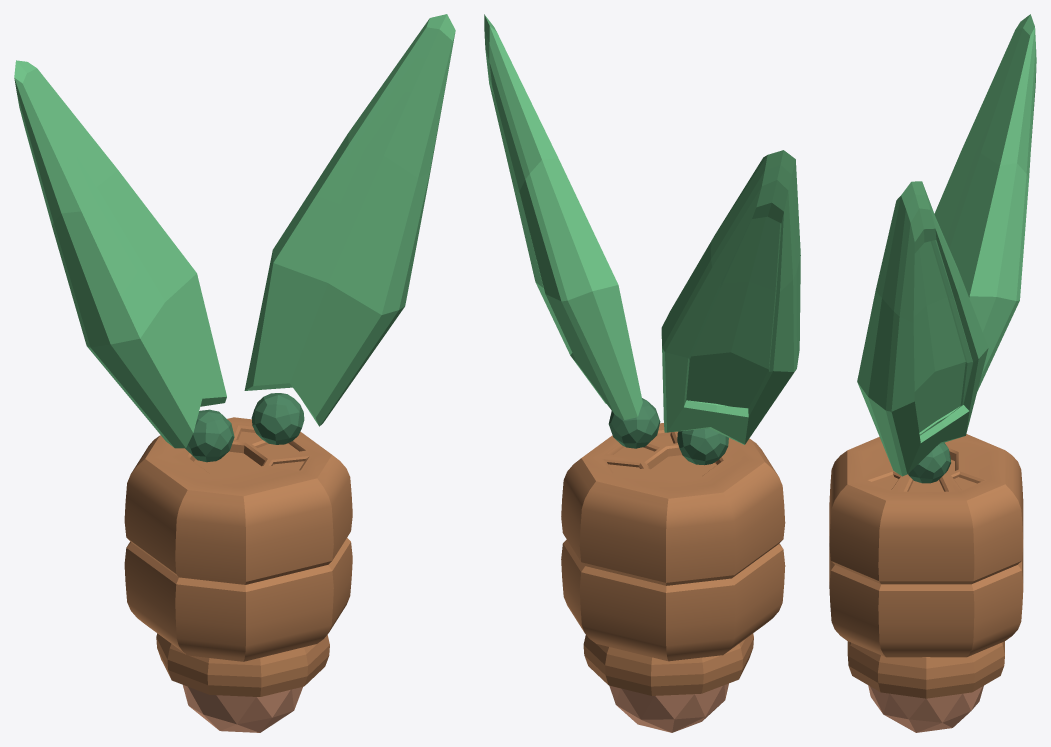
File: BunnitCenoura.fbx
3 renders of one model, left to right at view 1: azimuth 30°, elevation 25°; view 2: azimuth 150°, elevation 25°; view 3: azimuth 270°, elevation 25°, orthographic. The views are drawn at different scales.
Visible parts, largest first — view 1: OrelhaE, OrelhaD, Pata1E, Pata1D, BaseRabinho, Rabinho, BaseOrelhaE, BaseOrelhaD; view 2: OrelhaD, Pata1E, OrelhaE, Pata1D, BaseRabinho, Rabinho, BaseOrelhaE, BaseOrelhaD; view 3: OrelhaE, Pata1E, OrelhaD, Pata1D, BaseRabinho, Rabinho, BaseOrelhaE.
Boxes of the visible parts, x1,y1,x2,y2 form: OrelhaE: [244, 14, 455, 426]; OrelhaD: [14, 60, 226, 448]; Pata1E: [124, 417, 352, 584]; Pata1D: [124, 538, 352, 661]; BaseRabinho: [156, 633, 329, 696]; Rabinho: [183, 685, 302, 732]; BaseOrelhaE: [251, 393, 304, 444]; BaseOrelhaD: [185, 409, 234, 462]; OrelhaD: [661, 150, 800, 444]; Pata1E: [561, 423, 785, 585]; OrelhaE: [484, 14, 642, 419]; Pata1D: [561, 539, 785, 661]; BaseRabinho: [583, 633, 753, 695]; Rabinho: [609, 683, 728, 732]; BaseOrelhaE: [608, 398, 660, 448]; BaseOrelhaD: [677, 428, 728, 465]; OrelhaE: [857, 181, 988, 476]; Pata1E: [829, 434, 1023, 584]; OrelhaD: [934, 14, 1036, 391]; Pata1D: [829, 547, 1023, 657]; BaseRabinho: [847, 641, 1004, 698]; Rabinho: [868, 685, 983, 732]; BaseOrelhaE: [908, 442, 951, 483].
Bounding box in the file's own units: 10.84 × 18.42 × 5.43.
